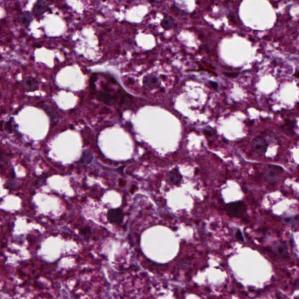steatosis: (135, 227, 184, 266), (95, 122, 136, 165), (213, 33, 255, 71)
